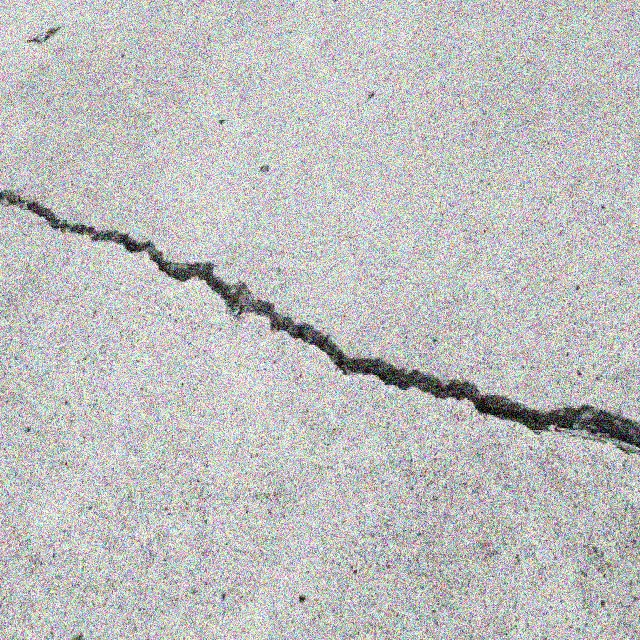SurfaceCrack: (0, 68, 639, 500)
